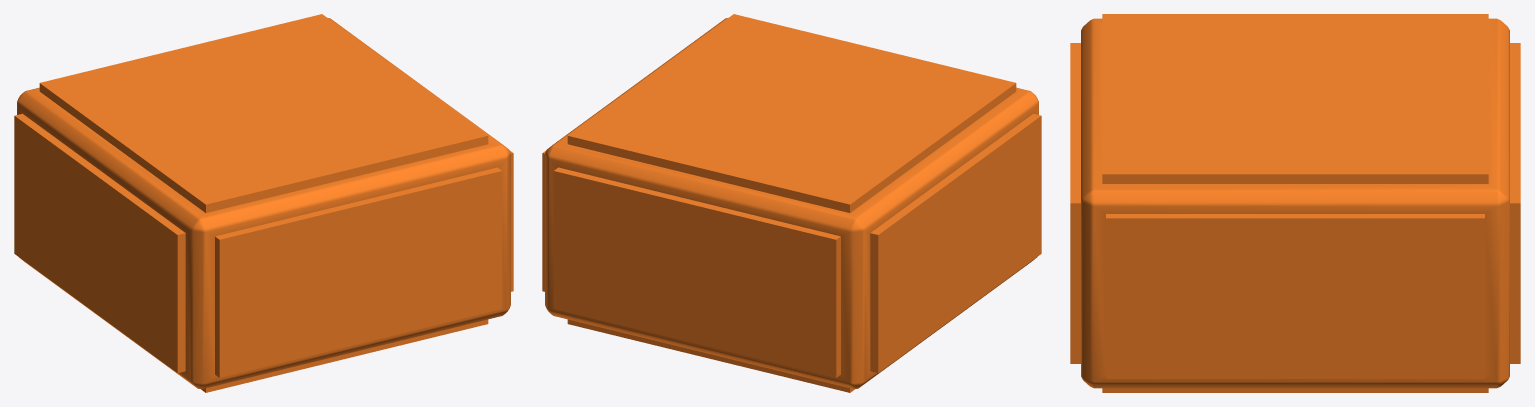
File: MovingBlock2.fbx
3 renders of one model, left to right at view 1: azimuth 30°, elevation 25°; view 2: azimuth 150°, elevation 25°; view 3: azimuth 270°, elevation 25°, orthographic. The views are drawn at different scales.
Visible parts, largest first — view 1: MovingBlock; view 2: MovingBlock; view 3: MovingBlock.
Part boxes in pixels (bbox=[...]): MovingBlock: bbox=[14, 14, 513, 392]; MovingBlock: bbox=[542, 14, 1041, 392]; MovingBlock: bbox=[1070, 14, 1520, 392].
Bounding box in the file's own units: 1.05 × 0.563 × 1.05.
